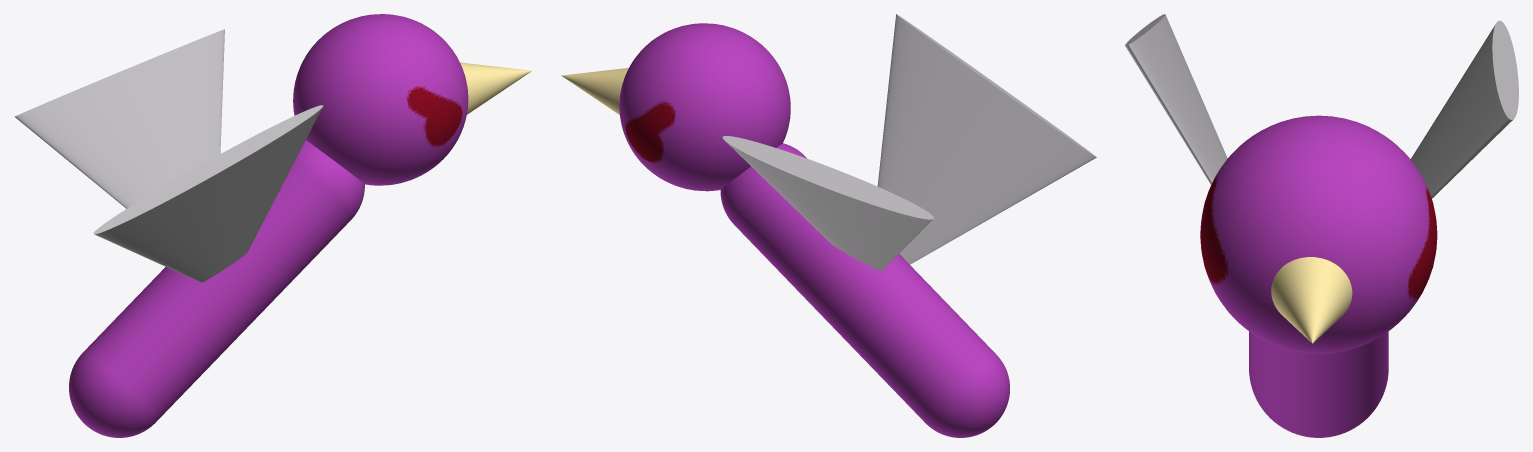
File: murissoca.fbx
3 renders of one model, left to right at view 1: azimuth 30°, elevation 25°; view 2: azimuth 150°, elevation 25°; view 3: azimuth 270°, elevation 25°, orthographic. The views are drawn at different scales.
Visible parts, largest first — view 1: root (×5); view 2: root (×5); view 3: root (×5).
Boxes of the visible parts, bbox=[...] form: root (×5): bbox=[14, 14, 531, 437]; root (×5): bbox=[561, 14, 1096, 437]; root (×5): bbox=[1125, 14, 1518, 437].
Size of the model in its own units: 0.1105 by 0.0743 by 0.0552.
Materials: 5 (5 with a texture image).
